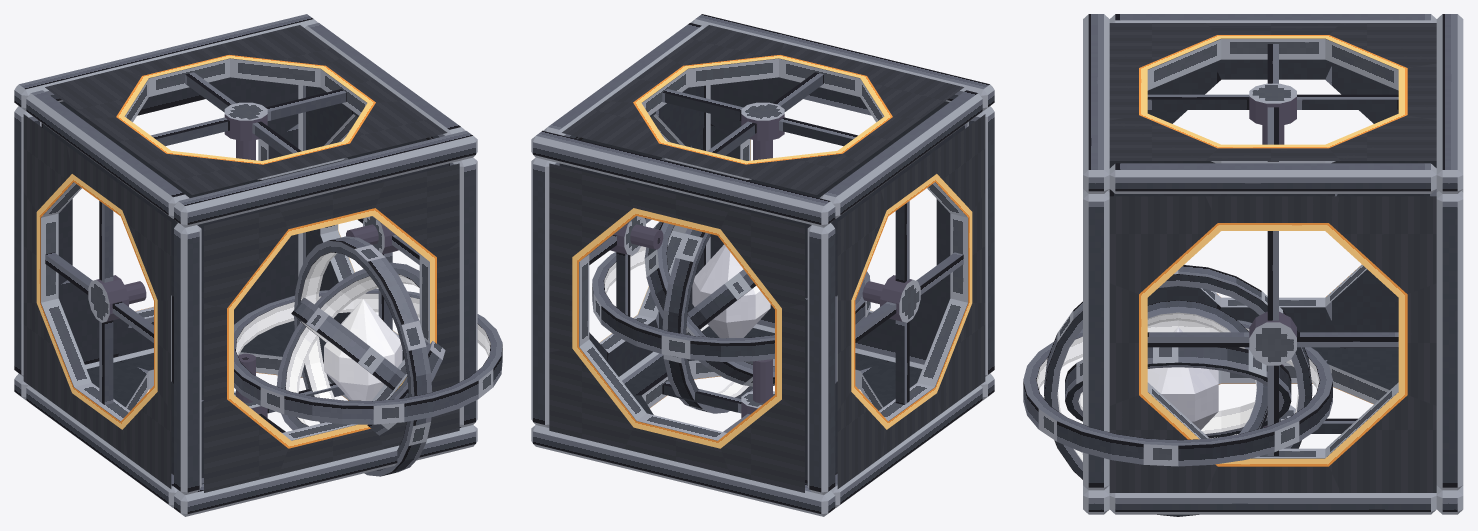
File: marlit_regen.glb
The picture shows the model from 3 angles, left to right: view 1: azimuth 30°, elevation 25°; view 2: azimuth 150°, elevation 25°; view 3: azimuth 270°, elevation 25°; orthographic projection. The views are drawn at different scales.
Visible parts, largest first — view 1: marlit_regen_frame, marlit_regen_ring0, marlit_regen_ring1, marlit_regen_crystal, marlit_regen_ring3, marlit_regen_ring2, marlit_regen_glow2, marlit_regen_glow0, marlit_regen_glow1; view 2: marlit_regen_frame, marlit_regen_ring0, marlit_regen_ring1, marlit_regen_crystal, marlit_regen_ring2, marlit_regen_ring3; view 3: marlit_regen_frame, marlit_regen_ring0, marlit_regen_ring1, marlit_regen_ring2, marlit_regen_crystal, marlit_regen_ring3, marlit_regen_glow0, marlit_regen_glow2, marlit_regen_glow3.
Boxes of the visible parts, left/top/right/bottom form: marlit_regen_frame: left=14, top=14, right=477, bottom=516; marlit_regen_ring0: left=234, top=288, right=502, bottom=424; marlit_regen_ring1: left=294, top=236, right=432, bottom=476; marlit_regen_crystal: left=324, top=299, right=402, bottom=400; marlit_regen_ring3: left=291, top=297, right=405, bottom=390; marlit_regen_ring2: left=276, top=262, right=445, bottom=435; marlit_regen_glow2: left=285, top=274, right=418, bottom=424; marlit_regen_glow0: left=236, top=293, right=490, bottom=356; marlit_regen_glow1: left=300, top=252, right=336, bottom=399; marlit_regen_frame: left=531, top=14, right=994, bottom=516; marlit_regen_ring0: left=592, top=252, right=870, bottom=361; marlit_regen_ring1: left=662, top=228, right=752, bottom=413; marlit_regen_crystal: left=692, top=244, right=770, bottom=338; marlit_regen_ring2: left=644, top=221, right=774, bottom=386; marlit_regen_ring3: left=687, top=269, right=756, bottom=330; marlit_regen_frame: left=1083, top=14, right=1463, bottom=514; marlit_regen_ring0: left=1023, top=320, right=1332, bottom=466; marlit_regen_ring1: left=1044, top=265, right=1312, bottom=516; marlit_regen_ring2: left=1065, top=347, right=1291, bottom=438; marlit_regen_crystal: left=1147, top=327, right=1218, bottom=429; marlit_regen_ring3: left=1147, top=300, right=1267, bottom=434; marlit_regen_glow0: left=1036, top=320, right=1319, bottom=389; marlit_regen_glow2: left=1078, top=392, right=1267, bottom=433; marlit_regen_glow3: left=1147, top=312, right=1256, bottom=389.
Size of the model in its own units: 2.32 by 2.21 by 2.32.
1 material, 1 textured.
